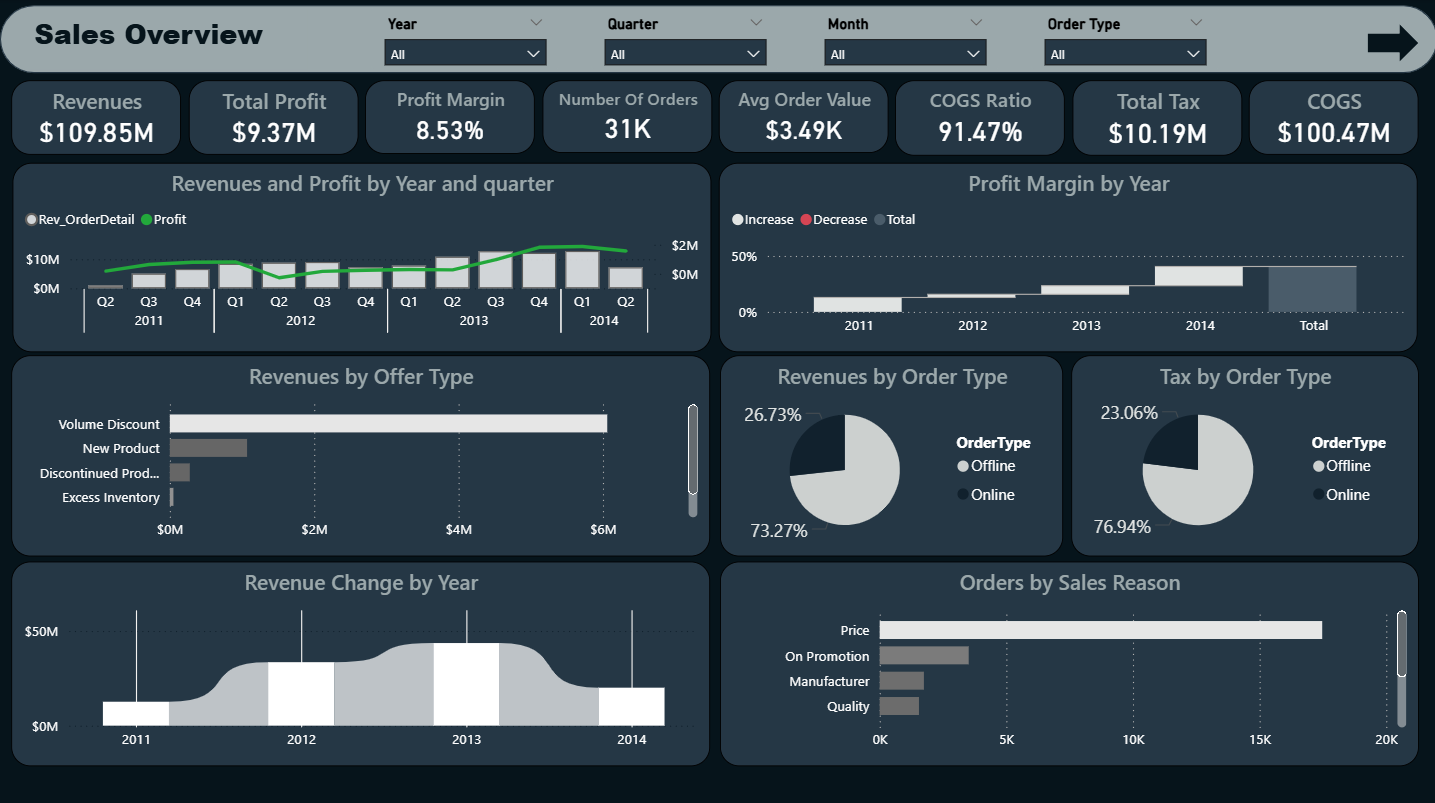

The page's visual inventory and layout, read from the dashboard file:
{"tool":"powerbi","page":{"name":"📶 OverView","canvas":[1280,720],"ordinal":1},"visuals":[{"type":"shape","box":[0,5.8,1280.2,60.5],"z":0},{"type":"card","title":"Total Tax","fields":{"Values":["measures_.Tax"]},"box":[954.6,72,151.3,67.2],"z":1000},{"type":"card","title":"COGS","fields":{"Values":["measures_.COGS"]},"box":[1112.1,72.4,151.4,66.8],"z":2000},{"type":"card","title":"COGS Ratio","fields":{"Values":["measures_.COGS Ratio"]},"box":[797.3,72,151.3,67.2],"z":3000},{"type":"card","title":"Revenues","fields":{"Values":["measures_.Rev_"]},"box":[10,72.4,151.4,66.8],"z":4000},{"type":"card","title":"Number Of Orders","fields":{"Values":["measures_.# Orders"]},"box":[483.1,72.4,151.4,64.6],"z":5000},{"type":"card","title":"Avg Order Value","fields":{"Values":["measures_.AvgRevPerOrder"]},"box":[640,72,151.3,64.8],"z":6000},{"type":"card","title":"Profit Margin","fields":{"Values":["measures_.Profit Margin"]},"box":[325,72.4,151.4,65.7],"z":7000},{"type":"card","title":"Total Profit","fields":{"Values":["measures_.Profit"]},"box":[168.1,72.4,151.4,66.8],"z":8000},{"type":"textbox","box":[25.6,9.3,247.7,53.5],"z":9000},{"type":"slicer","fields":{"Values":["Date.Year"]},"box":[330.2,8.1,167.4,54.7],"z":10000},{"type":"slicer","fields":{"Values":["Date.Quarter"]},"box":[526.4,8.1,167.4,54.7],"z":11000},{"type":"slicer","fields":{"Values":["Date.Month"]},"box":[722.5,8.1,167.4,54.7],"z":12000},{"type":"shape","title":"Sales Person","box":[1217.4,22.1,45.3,33.7],"z":13000},{"type":"lineClusteredColumnComboChart","title":"Revenues and Profit by Year and quarter","fields":{"Y":["measures_.Rev_"],"Y2":["measures_.Profit"],"Category":["Date.Year","Date.Quarter"]},"box":[11.6,145.3,622,168.6],"z":14000},{"type":"waterfallChart","fields":{"Y":["measures_.Profit Margin"],"Category":["Date.Year"]},"box":[639.5,145.3,622,168.6],"z":15000},{"type":"barChart","fields":{"Y":["measures_.Rev_"],"Category":["Dim_SpecialOffer.OfferType"]},"box":[10.5,317.4,622,179.1],"z":16000},{"type":"pieChart","title":"Revenues by Order Type","fields":{"Y":["measures_.Rev_"],"Category":["Fact_Sales.OrderType"]},"box":[640.7,317.4,305.8,179.1],"z":17000},{"type":"slicer","fields":{"Values":["Fact_Sales.OrderType"]},"box":[918.6,8.1,167.4,54.7],"z":18000},{"type":"pieChart","title":"Tax by Order Type","fields":{"Y":["measures_.Tax"],"Category":["Fact_Sales.OrderType"]},"box":[953.5,317.4,309.3,179.1],"z":19000},{"type":"ribbonChart","title":"Revenue Change by Year","fields":{"Category":["Date.Year"],"Y":["measures_.Rev_ YTD 2"]},"box":[9.6,500.7,622,182],"z":20000},{"type":"clusteredBarChart","title":"Orders by Sales Reason","fields":{"Category":["SalesReason.ReasonName"],"Y":["CountNonNull(SalesOrderReason.SalesOrderID)"]},"box":[640.7,501.2,622.1,182.6],"z":21000}]}

Visuals, with their boxes in screenshot pixels (x1, y1, x2, y2), scaled from the page's 1280x720 canvas onto the 1435x803 screenshot:
shape: BBox(0, 6, 1434, 74)
"Total Tax" card: BBox(1070, 80, 1240, 155)
"COGS" card: BBox(1247, 81, 1417, 155)
"COGS Ratio" card: BBox(894, 80, 1063, 155)
"Revenues" card: BBox(11, 81, 181, 155)
"Number Of Orders" card: BBox(542, 81, 711, 153)
"Avg Order Value" card: BBox(718, 80, 887, 153)
"Profit Margin" card: BBox(364, 81, 534, 154)
"Total Profit" card: BBox(188, 81, 358, 155)
textbox: BBox(29, 10, 306, 70)
slicer - Date.Year: BBox(370, 9, 558, 70)
slicer - Date.Quarter: BBox(590, 9, 778, 70)
slicer - Date.Month: BBox(810, 9, 998, 70)
"Sales Person" shape: BBox(1365, 25, 1416, 62)
"Revenues and Profit by Year and quarter" lineClusteredColumnComboChart: BBox(13, 162, 710, 350)
waterfallChart - measures_.Profit Margin x Date.Year: BBox(717, 162, 1414, 350)
barChart - measures_.Rev_ x Dim_SpecialOffer.OfferType: BBox(12, 354, 709, 554)
"Revenues by Order Type" pieChart: BBox(718, 354, 1061, 554)
slicer - Fact_Sales.OrderType: BBox(1030, 9, 1218, 70)
"Tax by Order Type" pieChart: BBox(1069, 354, 1416, 554)
"Revenue Change by Year" ribbonChart: BBox(11, 558, 708, 761)
"Orders by Sales Reason" clusteredBarChart: BBox(718, 559, 1416, 763)
